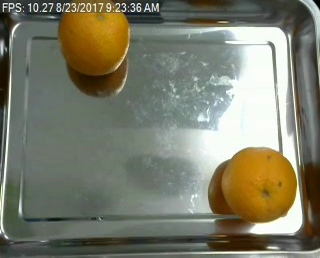Orange: (221, 144, 297, 221), (58, 12, 130, 76)
